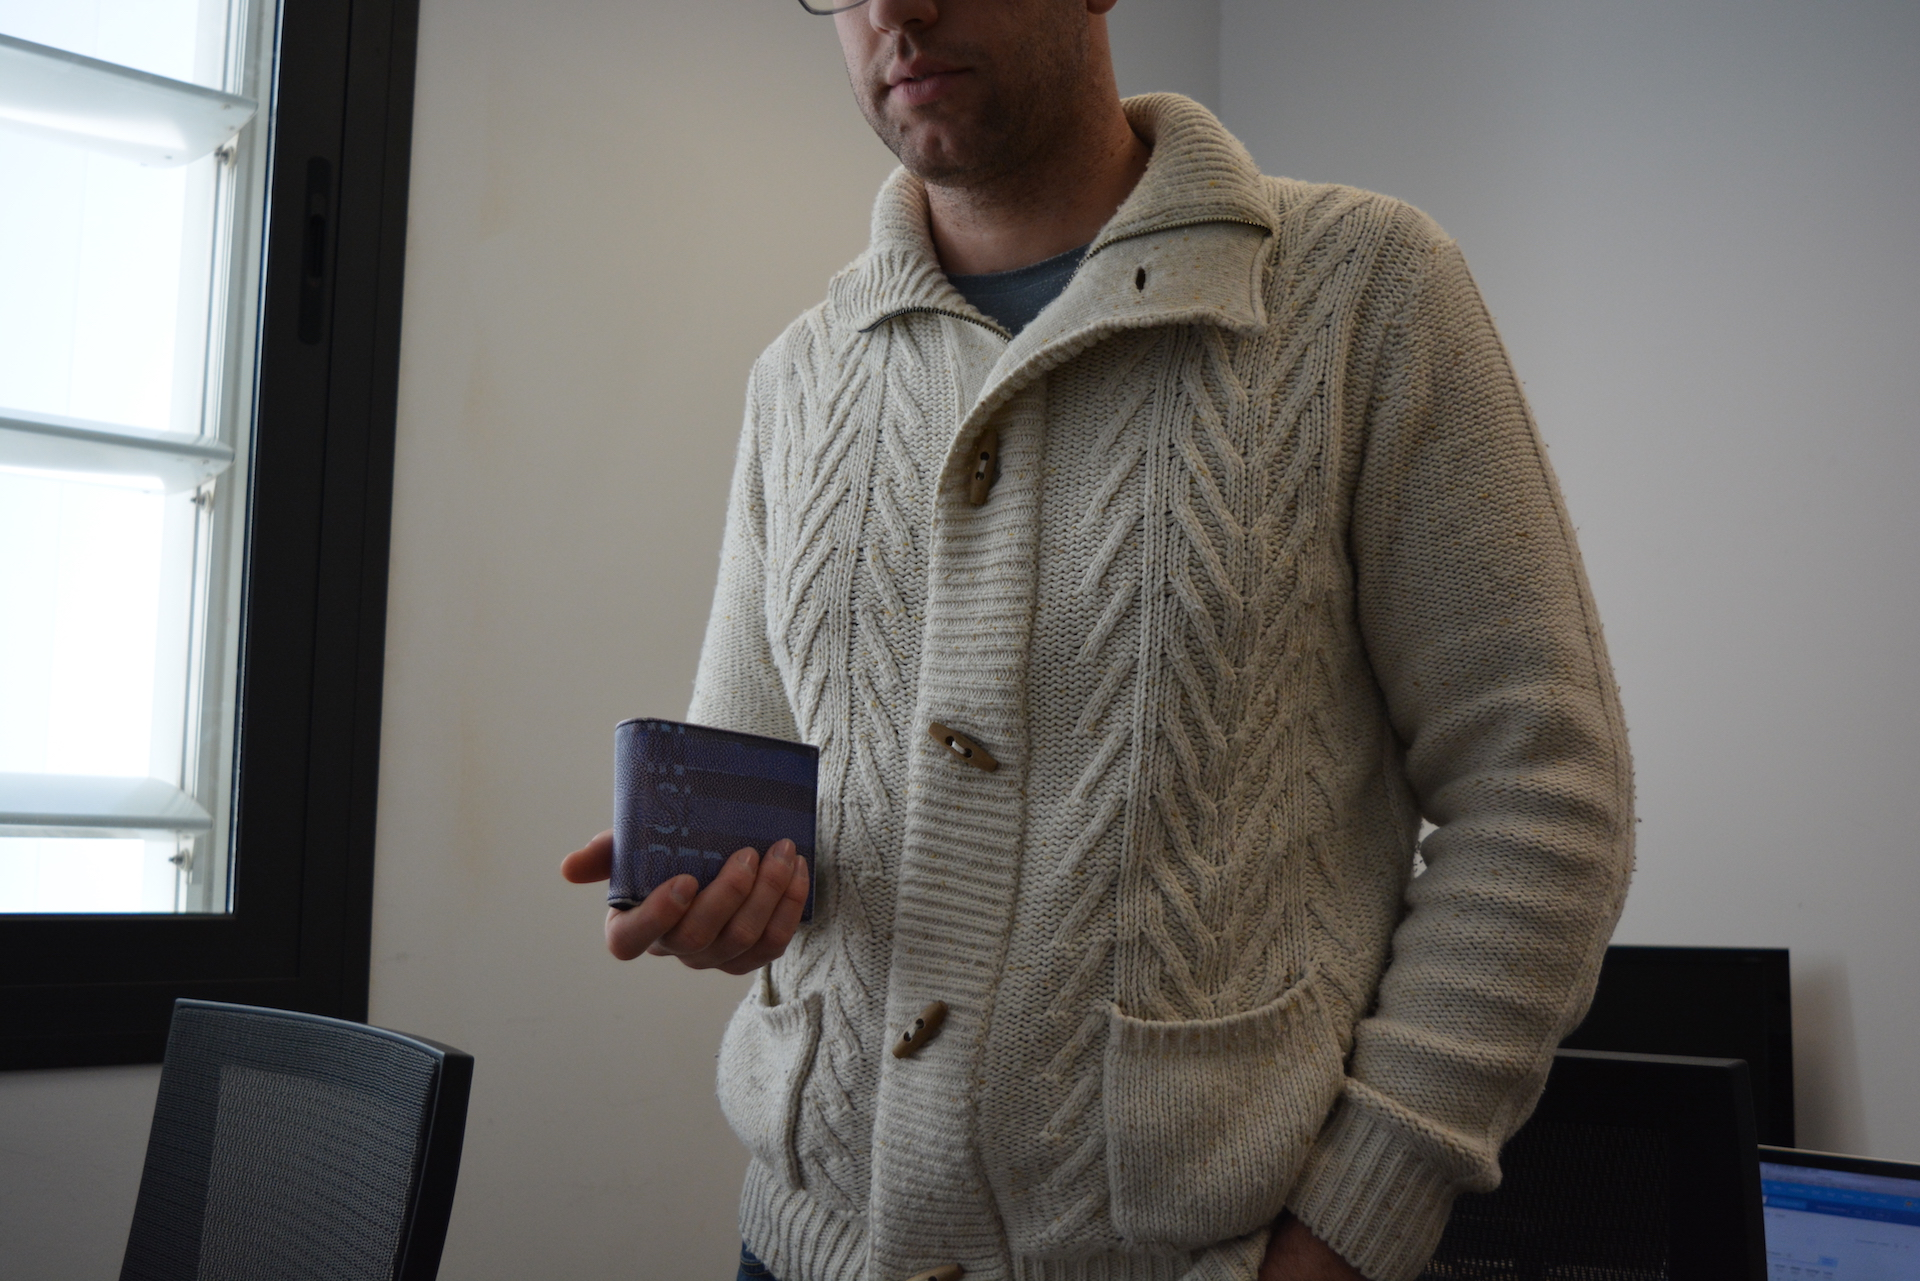monedero: (605, 715, 821, 928)
